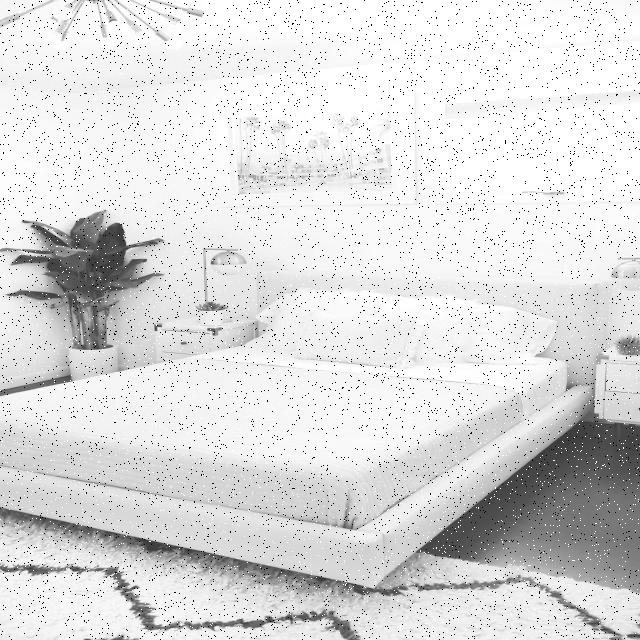bed: (0, 272, 616, 562)
